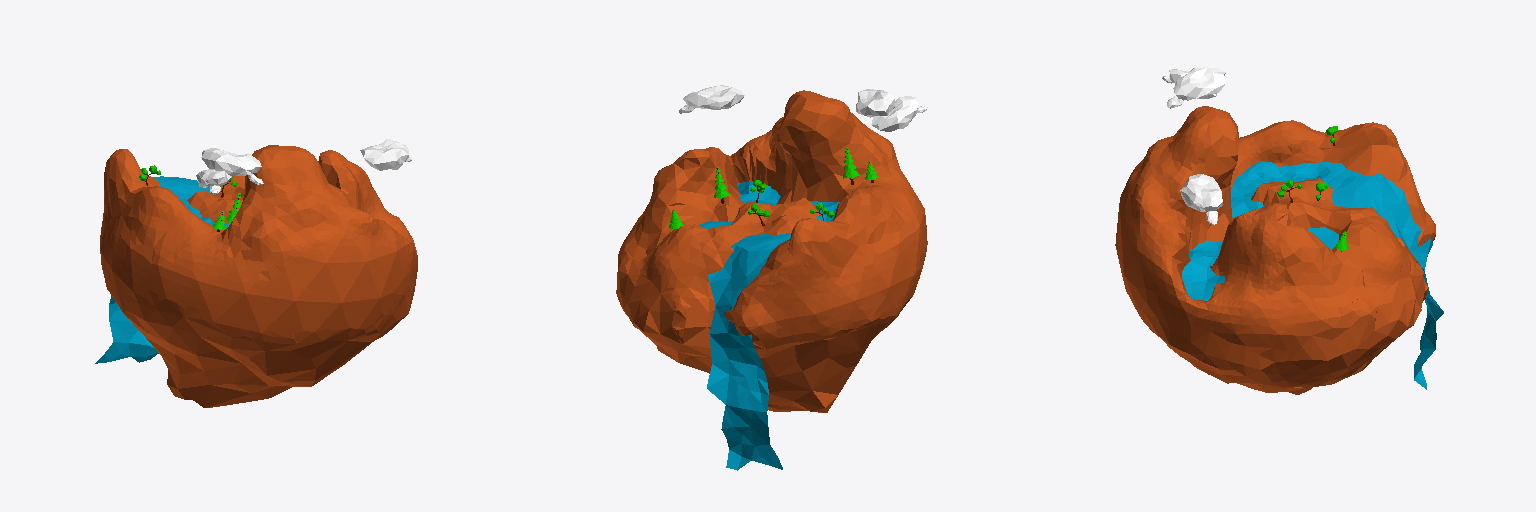
The model's file is island_basic_1.obj.
3 renders of one model, left to right at view 1: azimuth 30°, elevation 25°; view 2: azimuth 150°, elevation 25°; view 3: azimuth 270°, elevation 25°, orthographic.
Parts seen in each view (by area): view 1: Icosphere_Icosphere.001, Plane, Icosphere.004_Icosphere.005, Icosphere.005_Icosphere.006, Icosphere.002, Icosphere.001_Icosphere, Icosphere.003; view 2: Icosphere_Icosphere.001, Plane, Icosphere.004_Icosphere.005, Icosphere.005_Icosphere.006, Icosphere.001_Icosphere, Icosphere.003, Icosphere.002; view 3: Icosphere_Icosphere.001, Plane, Icosphere.004_Icosphere.005, Icosphere.005_Icosphere.006, Icosphere.002, Icosphere.001_Icosphere.
Part boxes in pixels (x1,y1,x2,y2): Icosphere_Icosphere.001: (100,158,417,407); Plane: (95,176,228,363); Icosphere.004_Icosphere.005: (252,145,323,184); Icosphere.005_Icosphere.006: (106,149,355,212); Icosphere.002: (201,148,263,184); Icosphere.001_Icosphere: (360,139,411,170); Icosphere.003: (196,169,231,194); Icosphere_Icosphere.001: (616,113,927,412); Plane: (698,181,839,470); Icosphere.004_Icosphere.005: (779,90,852,146); Icosphere.005_Icosphere.006: (661,147,877,241); Icosphere.001_Icosphere: (679,85,744,113); Icosphere.003: (871,96,927,131); Icosphere.002: (856,89,894,117); Icosphere_Icosphere.001: (1115,120,1435,394); Plane: (1182,161,1443,389); Icosphere.004_Icosphere.005: (1172,106,1238,174); Icosphere.005_Icosphere.006: (1236,120,1390,242); Icosphere.002: (1167,68,1225,108); Icosphere.001_Icosphere: (1180,174,1222,224).
Size of the model in its own units: 2189 by 2331 by 2316.